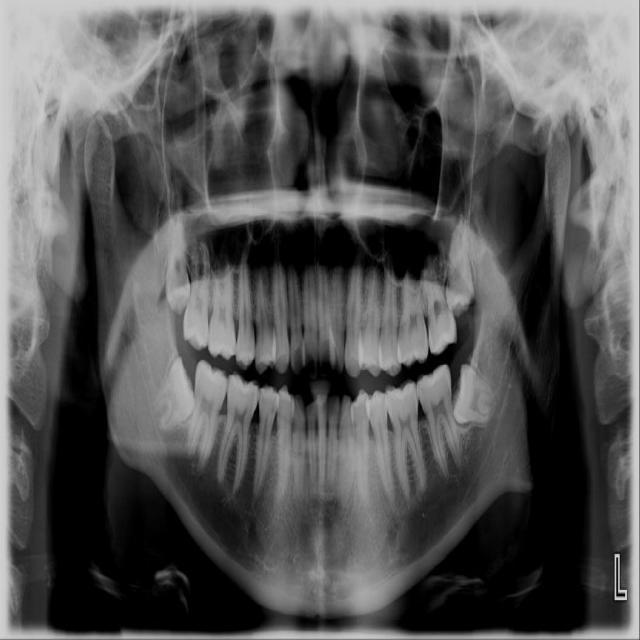impacted tooth: (145, 358, 193, 431), (444, 218, 476, 313), (452, 364, 503, 423), (164, 212, 193, 311)
